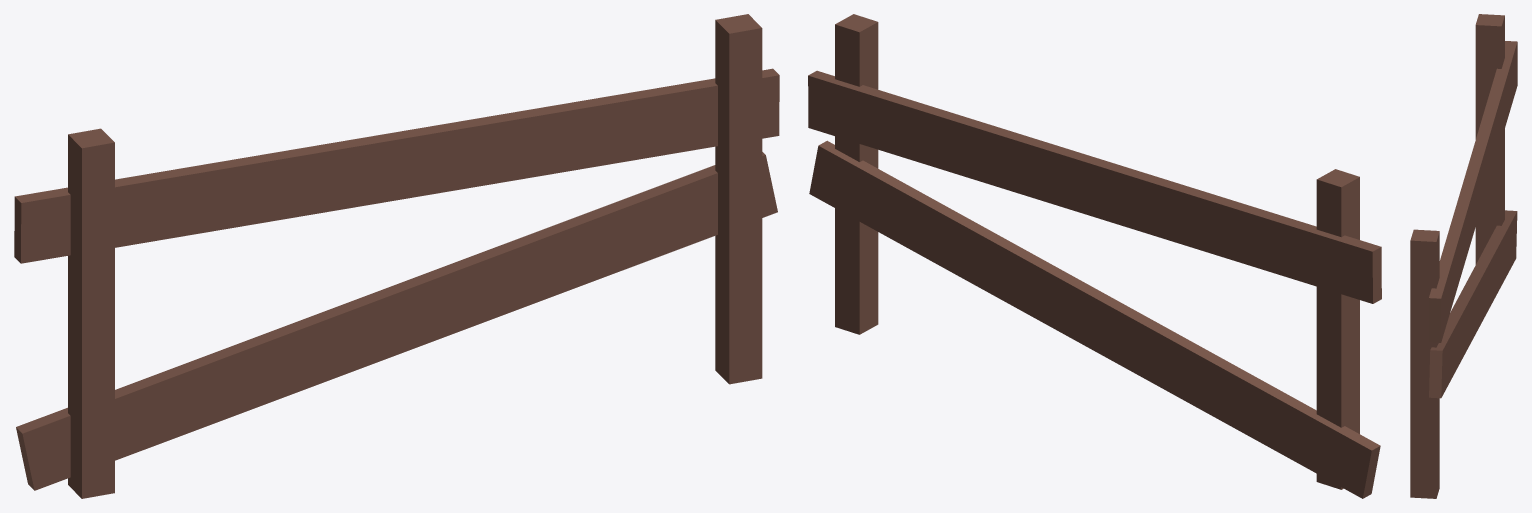
File: props_013.glb
3 renders of one model, left to right at view 1: azimuth 30°, elevation 25°; view 2: azimuth 150°, elevation 25°; view 3: azimuth 270°, elevation 25°, orthographic. The views are drawn at different scales.
Parts seen in each view (by area): view 1: props_013; view 2: props_013; view 3: props_013.
Boxes of the visible parts, x1=… form: props_013: x1=14, y1=14, x2=779, y2=498; props_013: x1=808, y1=14, x2=1381, y2=498; props_013: x1=1410, y1=14, x2=1517, y2=498.
Bounding box in the file's own units: 4.28 × 2.02 × 0.7643.
1 material, 1 textured.
